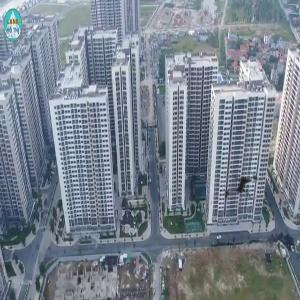drone: (206, 152, 281, 227)
